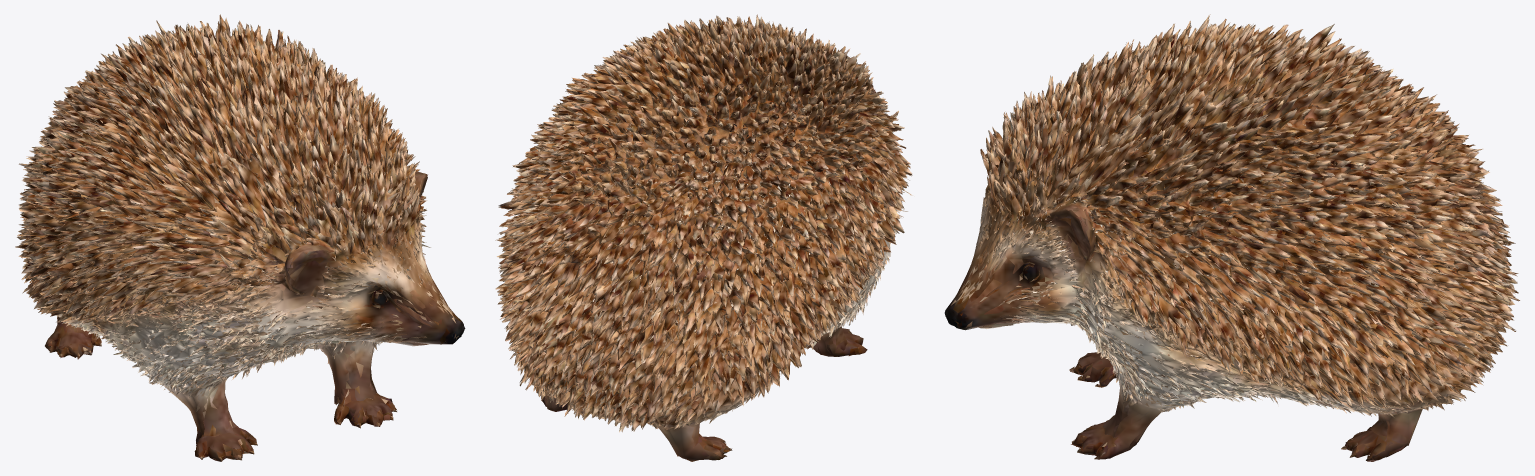
Rendered from hedgehog.meshopt.glb.
The picture shows the model from 3 angles, left to right: view 1: azimuth 30°, elevation 25°; view 2: azimuth 150°, elevation 25°; view 3: azimuth 270°, elevation 25°; orthographic projection. The views are drawn at different scales.
Visible parts, largest first — view 1: hedgehog; view 2: hedgehog; view 3: hedgehog.
Boxes of the visible parts, <box> form: hedgehog: <box>15,14,465,461</box>; hedgehog: <box>495,14,912,461</box>; hedgehog: <box>944,14,1519,461</box>.
Size of the model in its own units: 0.1534 by 0.1541 by 0.2191.
Materials: 1 (1 with a texture image).
